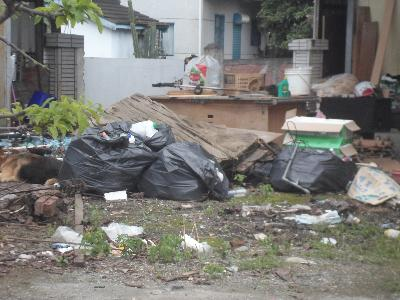box: (282, 115, 362, 146), (223, 71, 266, 98)
bucket: (283, 66, 313, 97)
plastic_bag: (56, 122, 158, 197), (137, 141, 231, 204), (268, 145, 358, 197)
